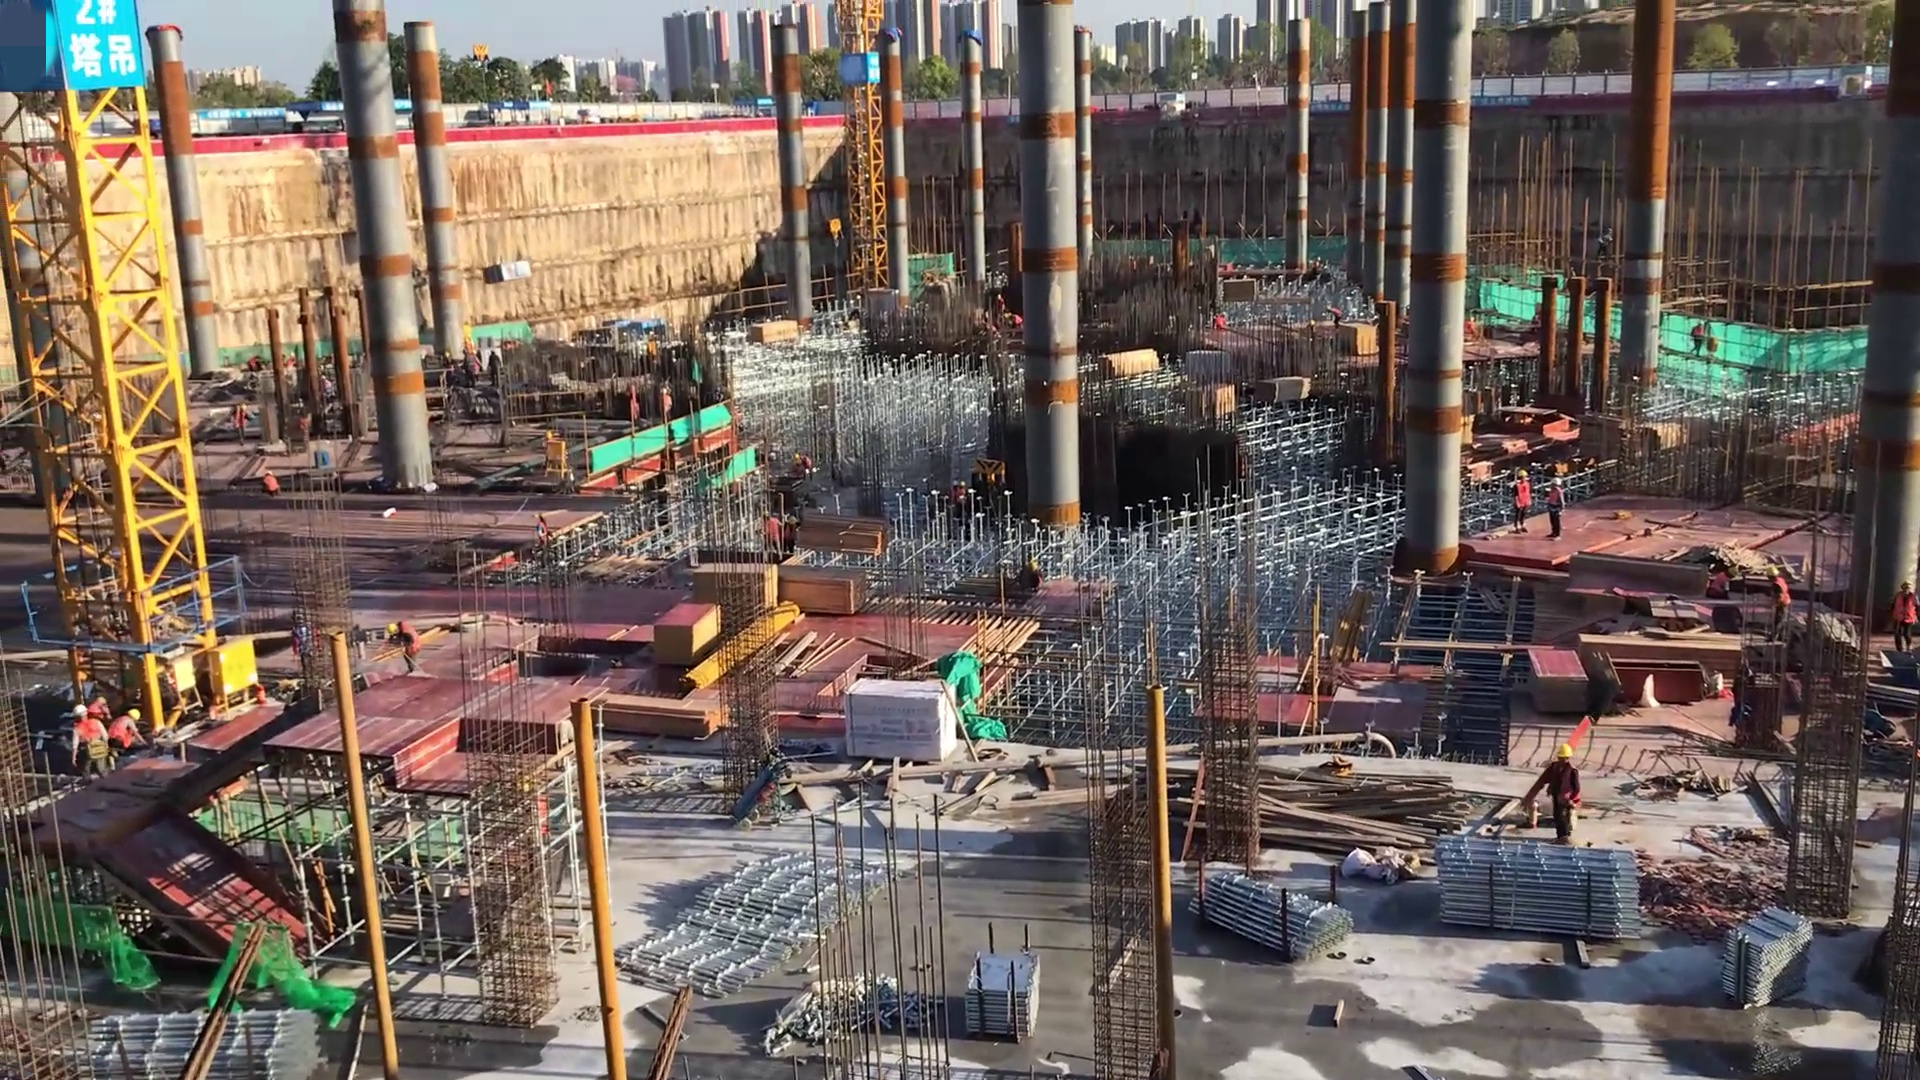board: (694, 561, 779, 622), (651, 599, 721, 670), (1527, 646, 1590, 717), (1339, 323, 1379, 357)
ebox: (208, 620, 264, 723), (165, 647, 203, 714), (545, 439, 574, 480)
helmet: (1554, 742, 1577, 763), (1764, 563, 1782, 591), (73, 701, 92, 725), (127, 704, 139, 729), (383, 623, 400, 640), (1726, 564, 1743, 582), (1548, 475, 1565, 492), (1517, 472, 1531, 482), (786, 513, 799, 524), (238, 403, 248, 416)
hook: (463, 38, 504, 82), (822, 210, 855, 253), (975, 452, 1002, 491)
hopper: (478, 256, 534, 288)
person: (1518, 749, 1588, 853), (64, 698, 110, 785), (383, 615, 427, 685), (1762, 565, 1797, 646), (1884, 576, 1920, 654), (1708, 550, 1737, 641), (1506, 463, 1534, 553), (1541, 479, 1581, 541), (111, 709, 147, 771), (85, 690, 121, 742), (230, 397, 257, 449), (943, 481, 970, 532), (534, 509, 557, 561), (759, 512, 781, 558), (654, 381, 677, 423), (1690, 314, 1709, 363), (785, 514, 804, 559), (257, 469, 289, 497), (790, 448, 814, 482), (1323, 301, 1348, 330), (1209, 311, 1233, 336)
scaffold: (1418, 838, 1633, 945), (1198, 856, 1350, 985), (58, 1012, 341, 1080), (1725, 906, 1834, 1017)
slogan: (52, 1, 150, 85), (1469, 92, 1532, 108), (1306, 101, 1356, 113)
vest: (1546, 762, 1580, 809), (69, 719, 109, 755), (111, 716, 140, 752), (1892, 592, 1918, 628), (1770, 576, 1794, 612), (399, 624, 422, 659), (1544, 487, 1569, 515), (1514, 478, 1535, 512), (260, 476, 281, 492)
wood: (1270, 768, 1459, 852), (1580, 629, 1743, 682), (775, 561, 870, 618), (592, 695, 716, 739), (798, 513, 891, 561), (1095, 348, 1163, 379), (748, 312, 798, 350), (1256, 377, 1312, 404)
